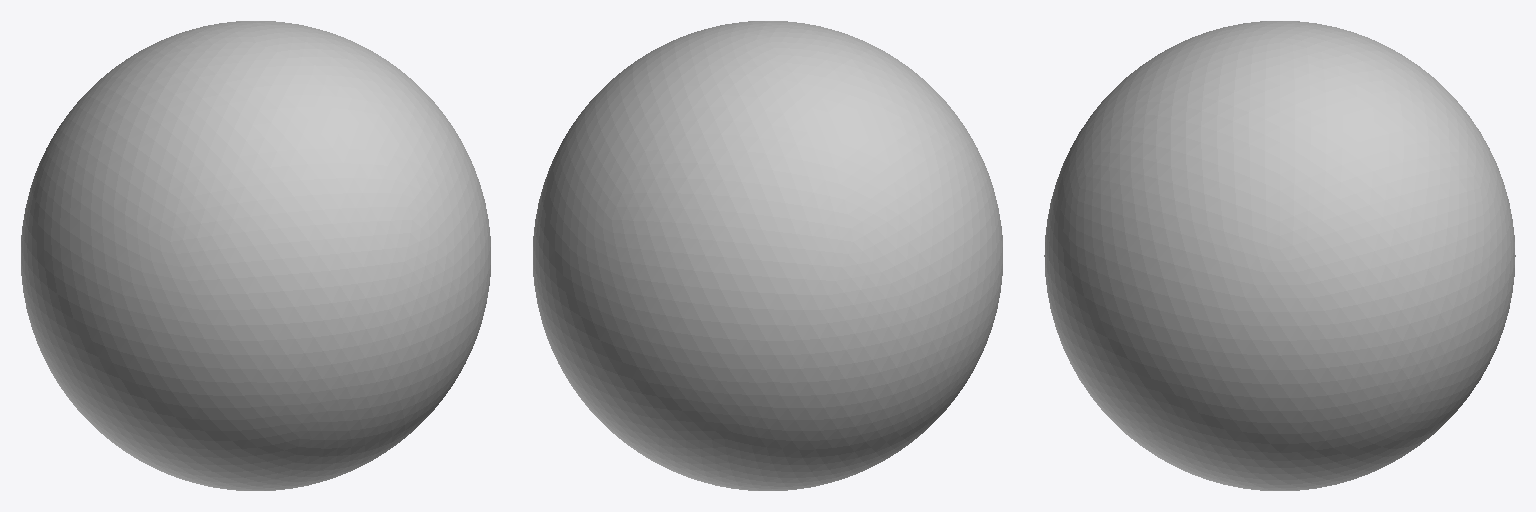
File: FFSphereICOres1.obj
The picture shows the model from 3 angles: view 1: azimuth 30°, elevation 25°; view 2: azimuth 150°, elevation 25°; view 3: azimuth 270°, elevation 25°; orthographic projection.
Visible parts, largest first — view 1: Icosphere_Icosphere.003; view 2: Icosphere_Icosphere.003; view 3: Icosphere_Icosphere.003.
Part boxes in pixels (bbox=[...]): Icosphere_Icosphere.003: bbox=[21, 21, 490, 490]; Icosphere_Icosphere.003: bbox=[533, 21, 1002, 490]; Icosphere_Icosphere.003: bbox=[1044, 21, 1515, 490].
Size of the model in its own units: 1 by 1 by 1.